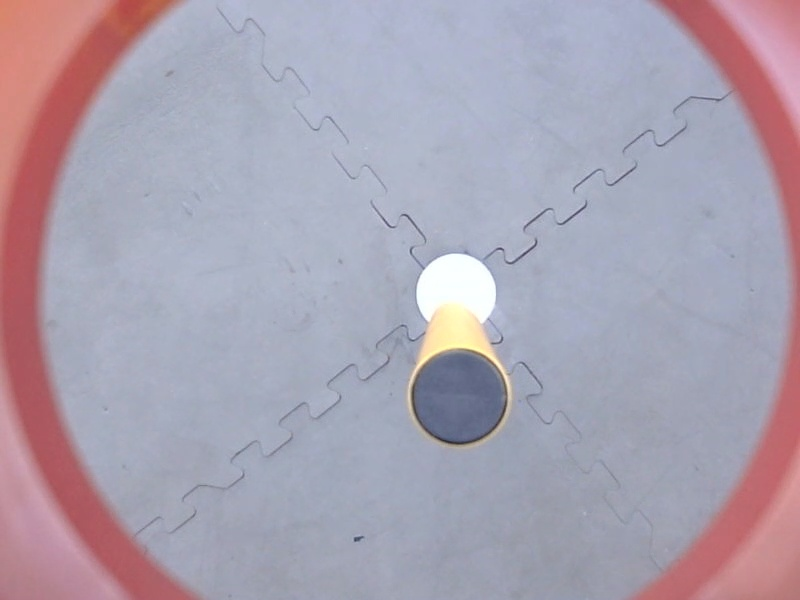tip: (402, 338, 518, 455)
